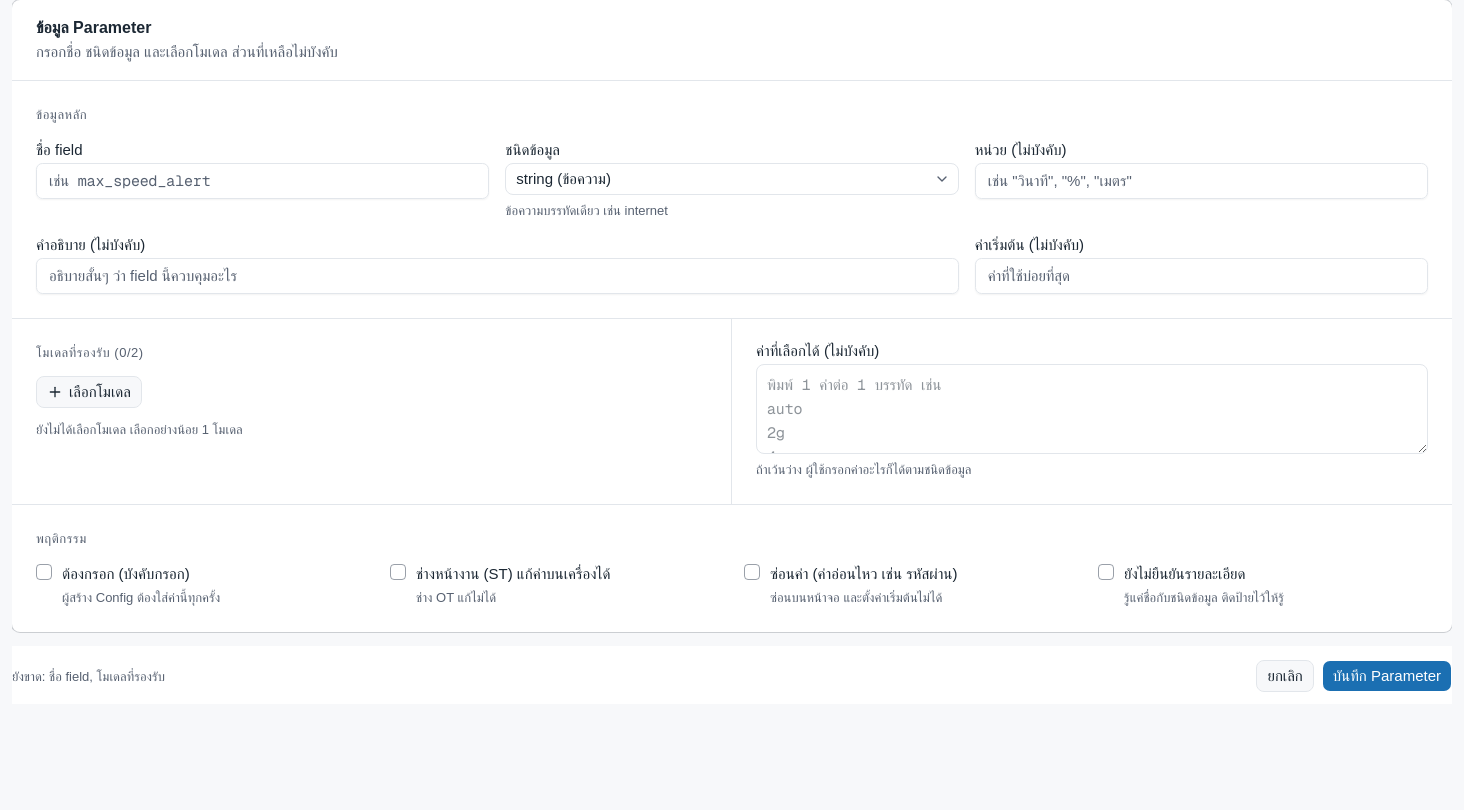
it: ParameterCreateForm — ช่วงค่า Min/Max (docs/30 §2 ข้อ 2, เฉพาะชนิดตัวเลข) › เลือกชนิดข้อมูล integer -> เห็นช่อง Min/Max
The width and height of the screenshot is (1464, 810).
Click the dropdown named "ชนิดข้อมูล". click: coordinates (564, 178)
box: [505,163,959,195]
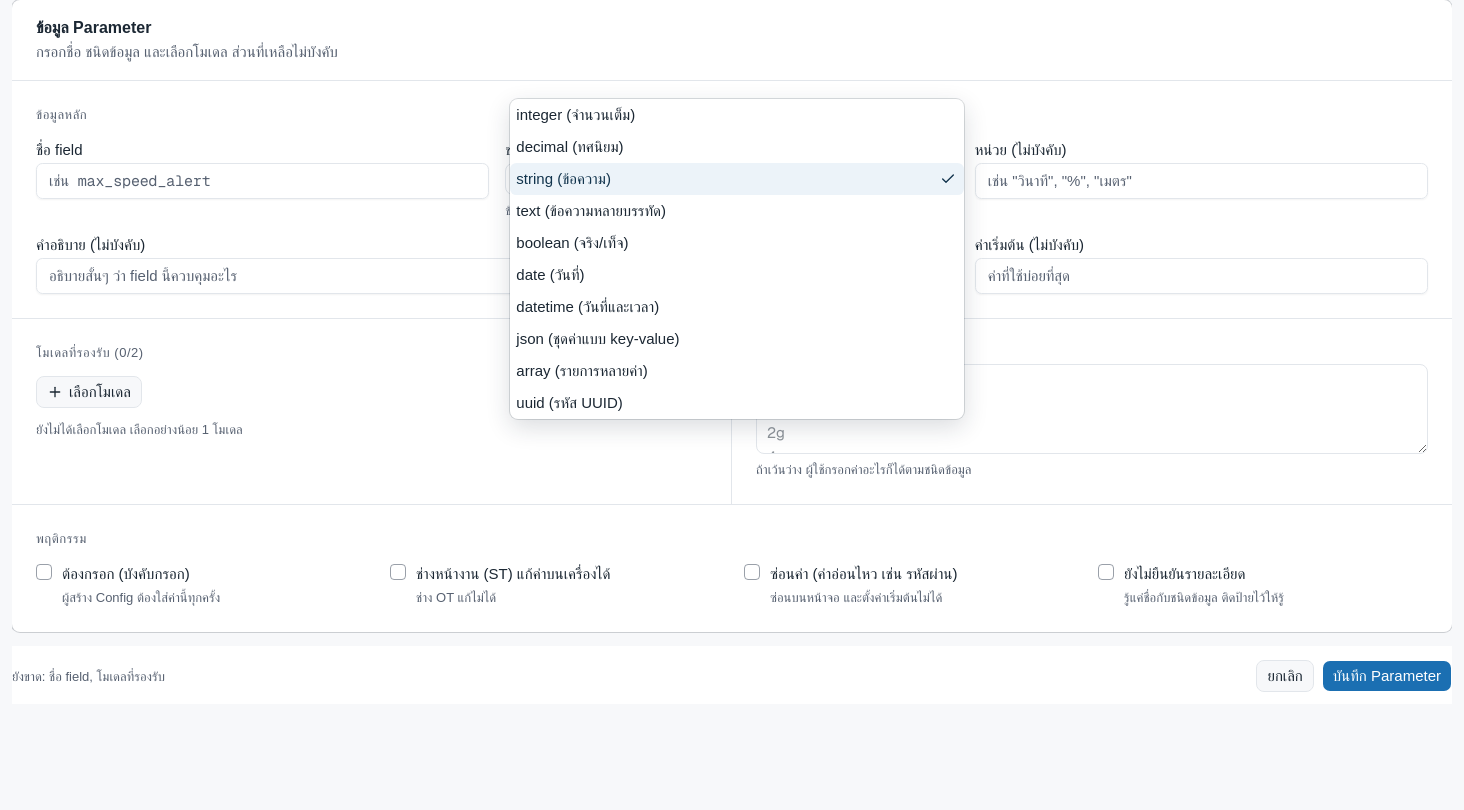
Click the option "integer (จำนวนเต็ม)". click: coordinates (576, 114)
box: [516,106,635,123]
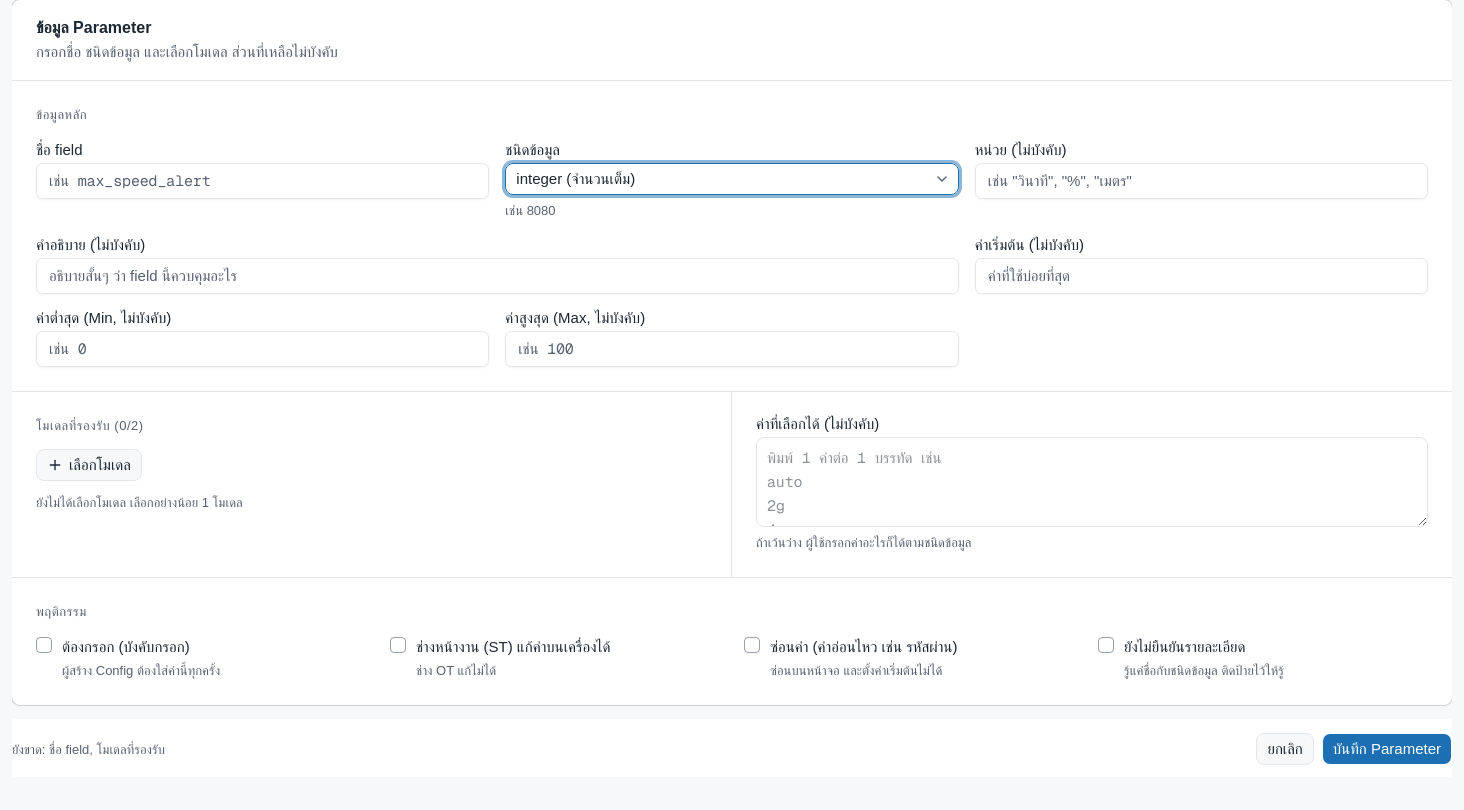
Result: the number field labelled "ค่าต่ำสุด (Min, ไม่บังคับ)" is shown at [36,331,489,367]
Result: the number field labelled "ค่าสูงสุด (Max, ไม่บังคับ)" is shown at [505,331,959,367]
